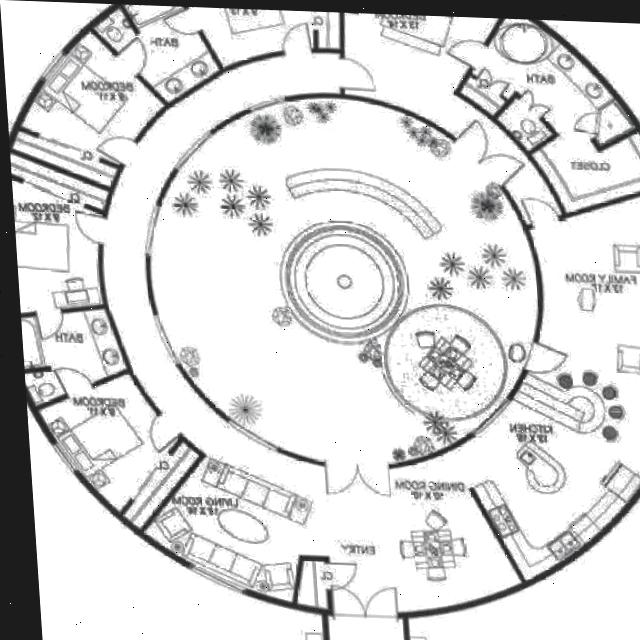room: (103, 53, 640, 613), (83, 26, 606, 537), (34, 352, 209, 533), (5, 27, 175, 205), (3, 153, 109, 316), (2, 289, 129, 407), (187, 7, 340, 71), (497, 99, 552, 155)
